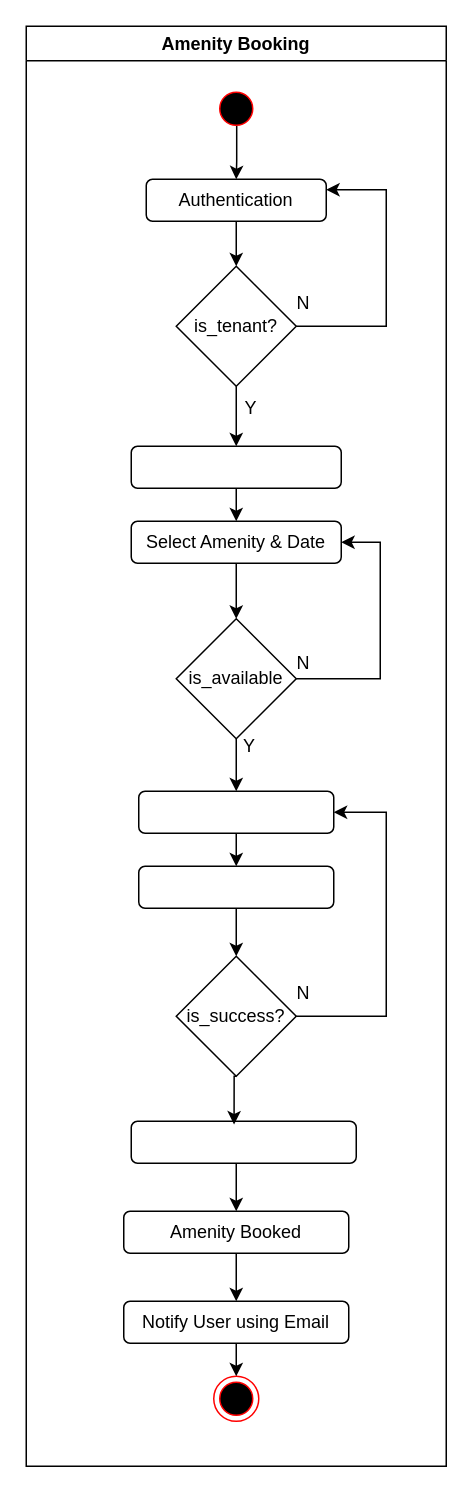
The diagram is 473 pixels wide and 1493 high, and some of its shapes have lost their labels. The shapes that lost their labels are listed below. From the top down, each one's centre as x and y in pixels, then its label:
the point at 235,466: Display Amenities List
the point at 235,811: Diplay Payment Page
the point at 235,886: Make Payment
the point at 243,1141: Store Data in Database
